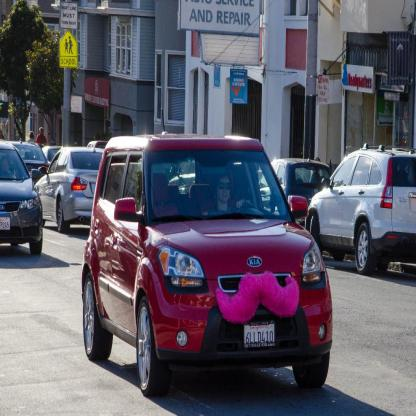Car: (83, 109, 333, 397), (306, 144, 416, 274), (36, 149, 105, 233), (260, 159, 334, 227), (1, 144, 42, 255)
